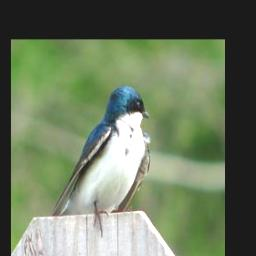Swallow: (50, 83, 152, 238)
